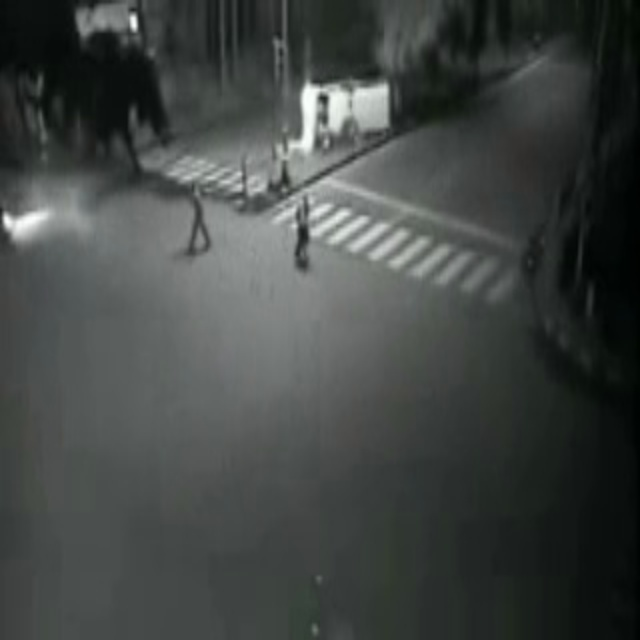acc: (290, 65, 403, 151)
